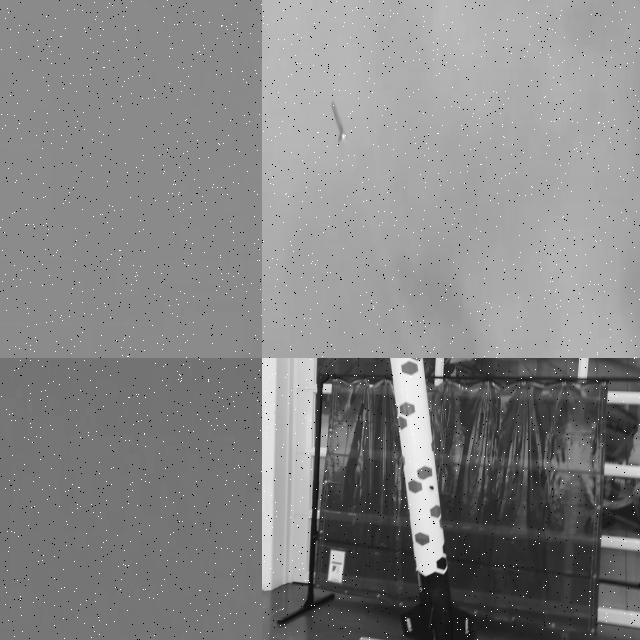Rocket: (390, 358, 477, 640), (331, 100, 346, 142)
